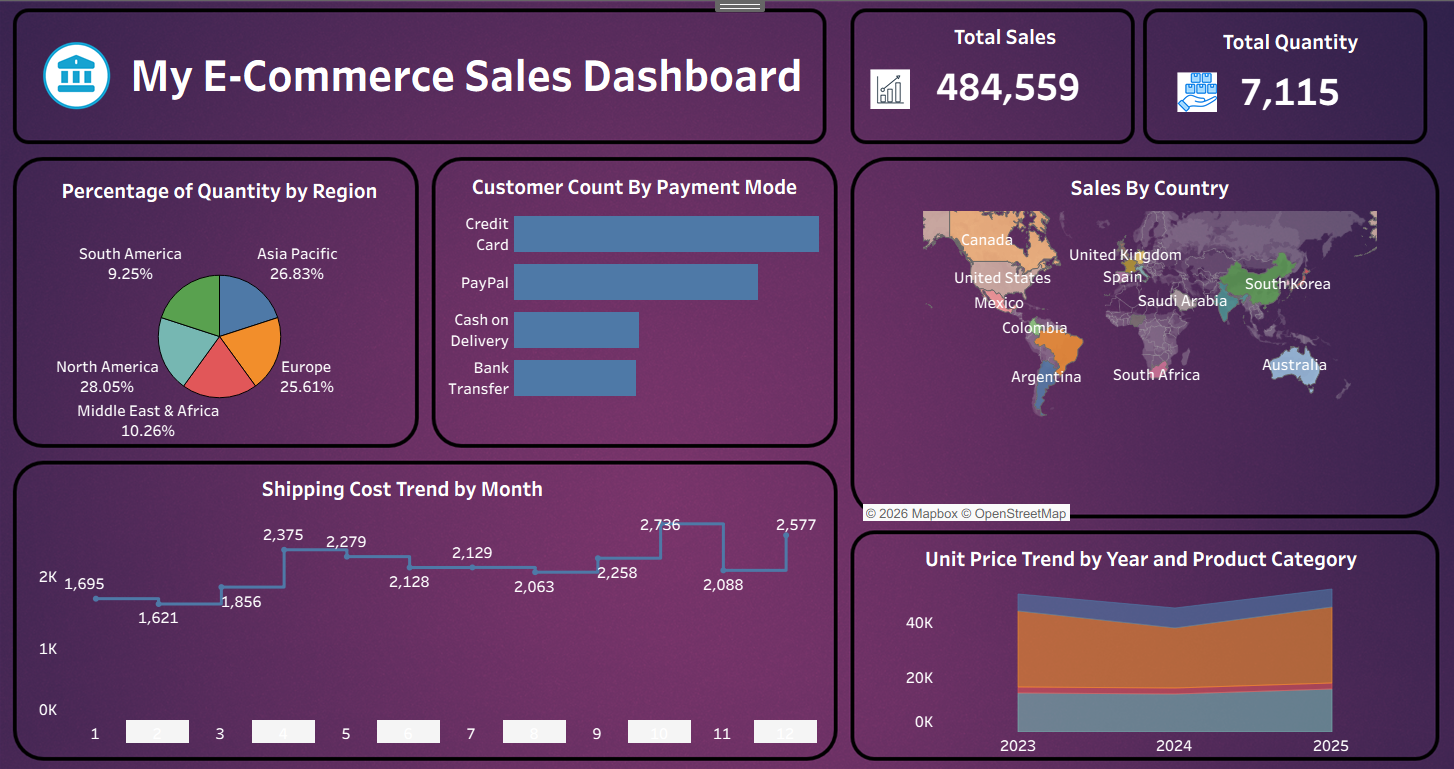

The page's visual inventory and layout, read from the dashboard file:
{"tool":"tableau","page":{"name":"Dashboard 4","canvas":[1490,780],"ordinal":1},"visuals":[{"type":"image","param":"Image/Screenshot 2026-04-16 010534.png","box":[8,4,1485,769]},{"type":"text","box":[136,15,798,122]},{"type":"worksheet","title":"Total Sales","mark":"Automatic","box":[934,21,262,117]},{"type":"worksheet","title":"Total Quantity","mark":"Automatic","box":[1180,26,239,96]},{"type":"image","param":"Image/Icon - Sales Dashboard(active).png","box":[51,44,79,69]},{"type":"image","param":"Image/images.png","box":[879,72,54,40]},{"type":"image","param":"Image/images (1).png","box":[1186,75,41,40]},{"type":"worksheet","title":"Bar Chart","mark":"Bar","rows":["Payment_Method"],"cols":["Customer_Name"],"box":[443,171,401,261]},{"type":"worksheet","title":"Global Chart","mark":"Multipolygon","box":[869,172,580,354]},{"type":"worksheet","title":"Pie chart","mark":"Pie","box":[6,175,445,287]},{"type":"worksheet","title":"Area Chart","mark":"Area","rows":["Unit_Price"],"cols":["Order_Date"],"box":[881,543,538,217]}]}

Visuals, with their boxes in screenshot pixels (x1, y1, x2, y2), scaled from the page's 1490x780 canvas onto the 1454x769 screenshot:
image: box(8, 4, 1453, 762)
text: box(133, 15, 911, 135)
"Total Sales" worksheet: box(911, 21, 1167, 136)
"Total Quantity" worksheet: box(1151, 26, 1385, 120)
image: box(50, 43, 127, 111)
image: box(858, 71, 910, 110)
image: box(1157, 74, 1197, 113)
"Bar Chart" worksheet (Bar marks): box(432, 169, 824, 426)
"Global Chart" worksheet (Multipolygon marks): box(848, 170, 1414, 519)
"Pie chart" worksheet (Pie marks): box(6, 173, 440, 455)
"Area Chart" worksheet (Area marks): box(860, 535, 1385, 749)
